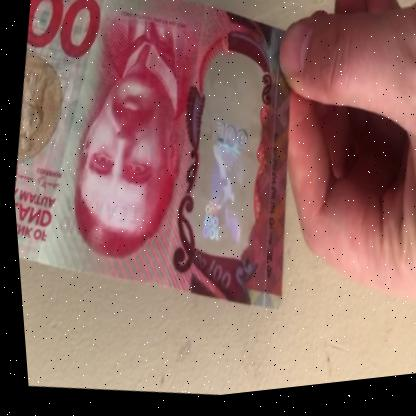100F: (183, 76, 266, 260)
